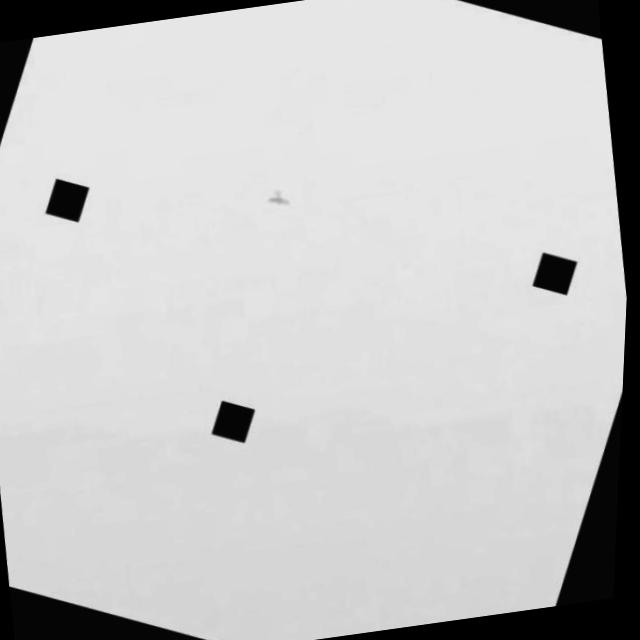aeroplane: (259, 180, 300, 218)
